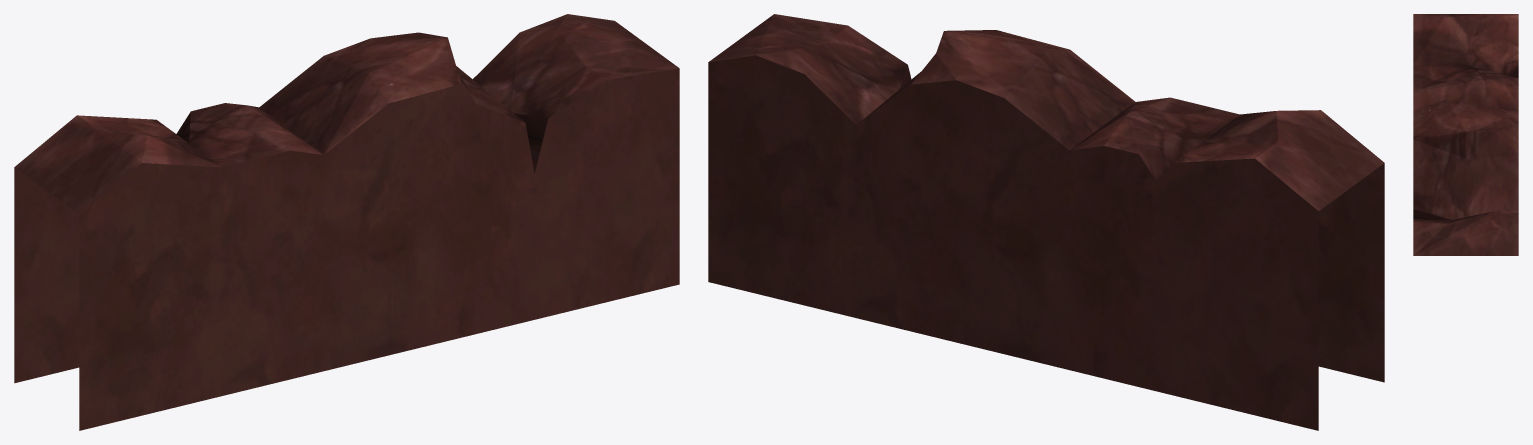
File: lava_broken_straight_01.fbx
The picture shows the model from 3 angles, left to right: view 1: azimuth 30°, elevation 25°; view 2: azimuth 150°, elevation 25°; view 3: azimuth 270°, elevation 25°; orthographic projection. The views are drawn at different scales.
Visible parts, largest first — view 1: lava_broken_straight_01-0; view 2: lava_broken_straight_01-0; view 3: lava_broken_straight_01-0.
Part boxes in pixels (x1,y1,x2,y2): lava_broken_straight_01-0: (14, 14, 679, 430); lava_broken_straight_01-0: (708, 14, 1384, 430); lava_broken_straight_01-0: (1413, 14, 1518, 255).
Bounding box in the file's own units: 4 × 1.73 × 0.75.
